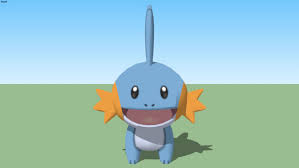mudkip: (92, 5, 210, 163)
